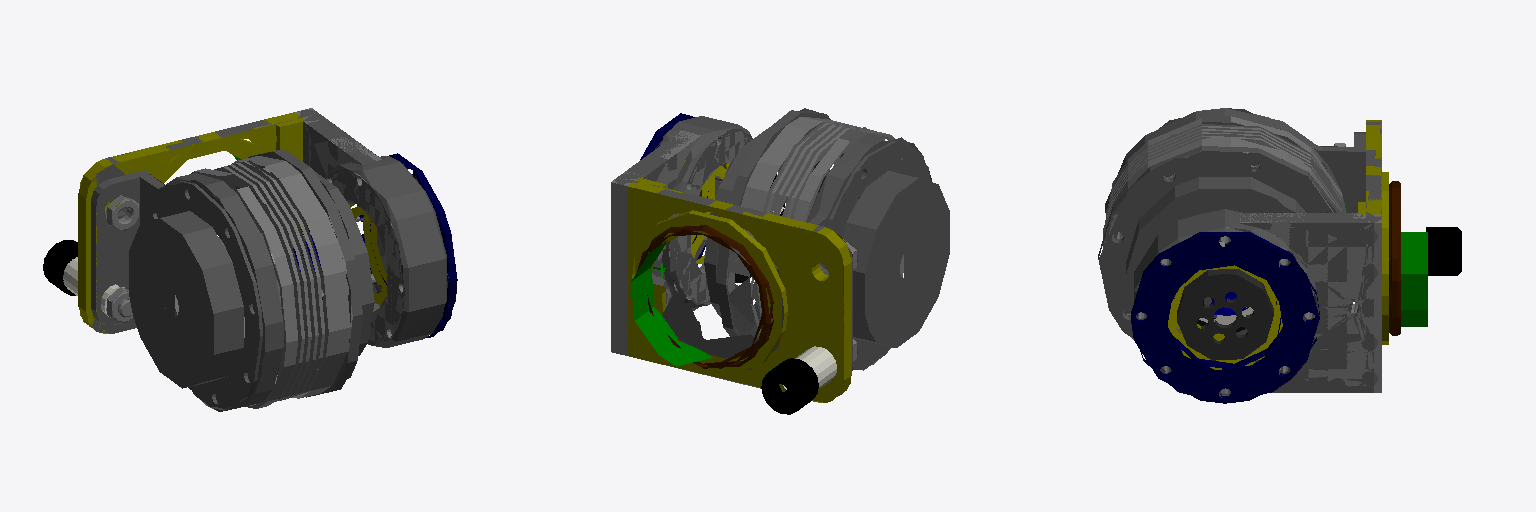
3 renders of one model, left to right at view 1: azimuth 30°, elevation 25°; view 2: azimuth 150°, elevation 25°; view 3: azimuth 270°, elevation 25°, orthographic.
Bounding box in the file's own units: 0.075 × 0.0639 × 0.093.
1 materials, 1 textured.